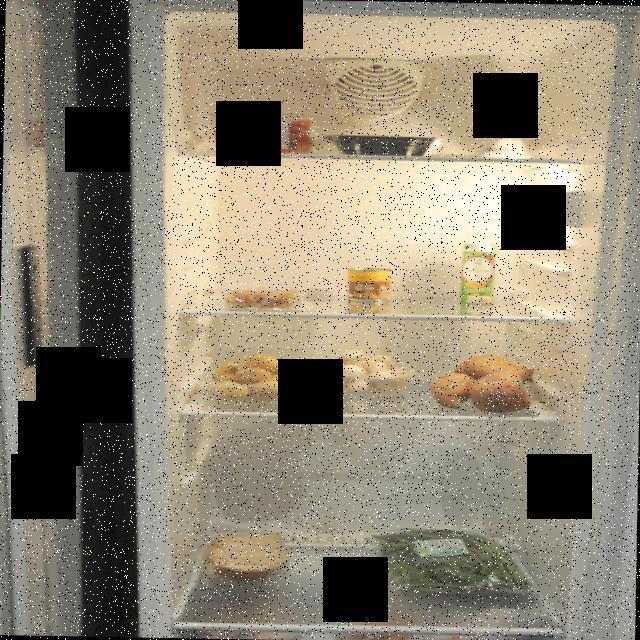bread: (206, 530, 292, 584)
corn: (345, 265, 393, 309)
flour: (470, 101, 533, 160)
green_beans: (370, 526, 536, 593)
heavy_cream: (459, 238, 498, 307)
mushrooms: (322, 346, 414, 398)
potato: (207, 350, 297, 408)
shrimp: (224, 286, 308, 310)
strawberries: (212, 112, 324, 153)
sweet_potato: (430, 350, 538, 414)
